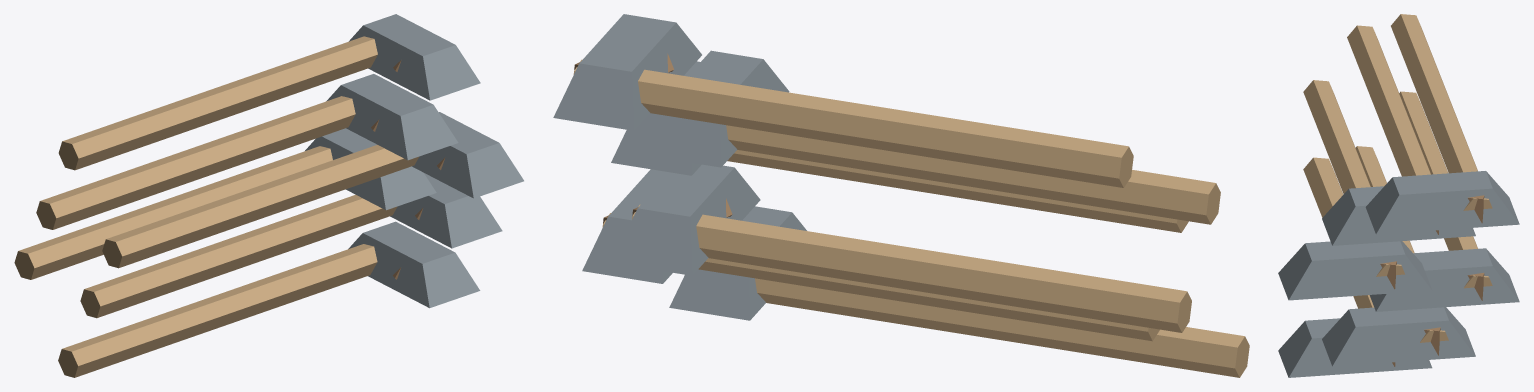
The model's file is item_104_iron_axe_l.glb.
3 views of the same model, side by side, from view 1: azimuth 30°, elevation 25°; view 2: azimuth 150°, elevation 25°; view 3: azimuth 270°, elevation 25° (orthographic). The views are drawn at different scales.
Visible parts, largest first — view 1: item_104_iron_axe_l; view 2: item_104_iron_axe_l; view 3: item_104_iron_axe_l.
Boxes of the visible parts, bbox=[...] form: item_104_iron_axe_l: bbox=[14, 14, 523, 377]; item_104_iron_axe_l: bbox=[553, 14, 1249, 377]; item_104_iron_axe_l: bbox=[1278, 14, 1519, 377].
Bounding box in the file's own units: 0.7039 × 0.3094 × 0.3318.
